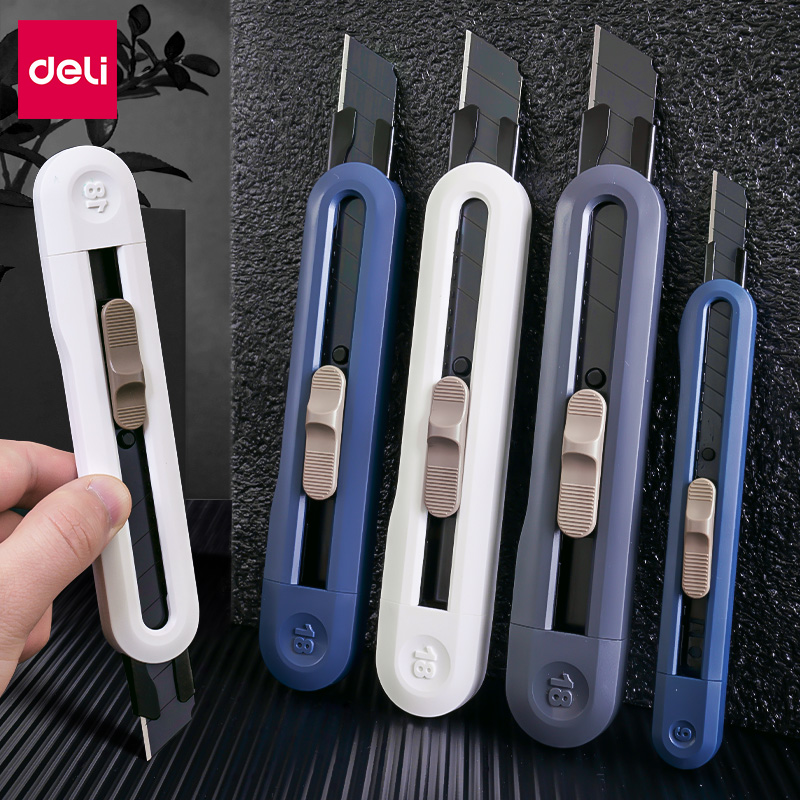cutter: (503, 8, 670, 751), (374, 12, 534, 718), (30, 143, 201, 762), (256, 20, 402, 690), (651, 155, 758, 771)
